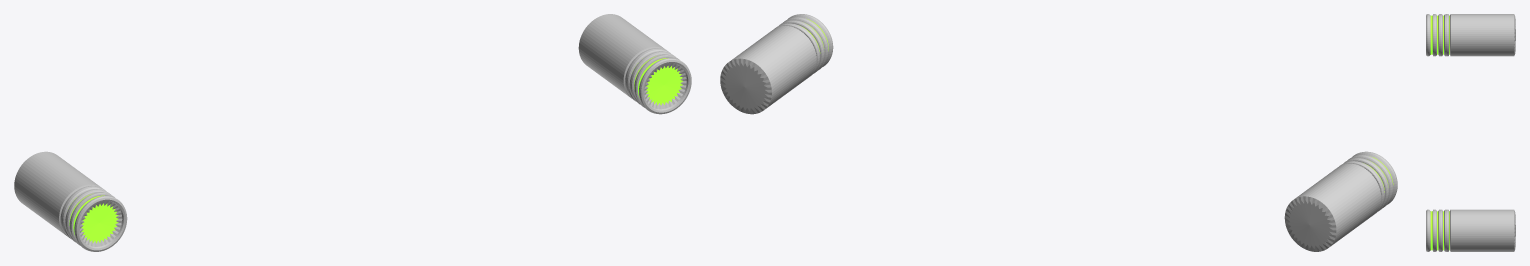
File: IonBlaster.fbx
The picture shows the model from 3 angles, left to right: view 1: azimuth 30°, elevation 25°; view 2: azimuth 150°, elevation 25°; view 3: azimuth 270°, elevation 25°; orthographic projection. The views are drawn at different scales.
Visible parts, largest first — view 1: Plane.001; view 2: Plane.001; view 3: Plane.001.
Part boxes in pixels (x1=…): Plane.001: x1=14, y1=14, x2=691, y2=251; Plane.001: x1=720, y1=14, x2=1397, y2=251; Plane.001: x1=1426, y1=14, x2=1515, y2=251.
Size of the model in its own units: 99.75 by 8.38 by 17.76.
